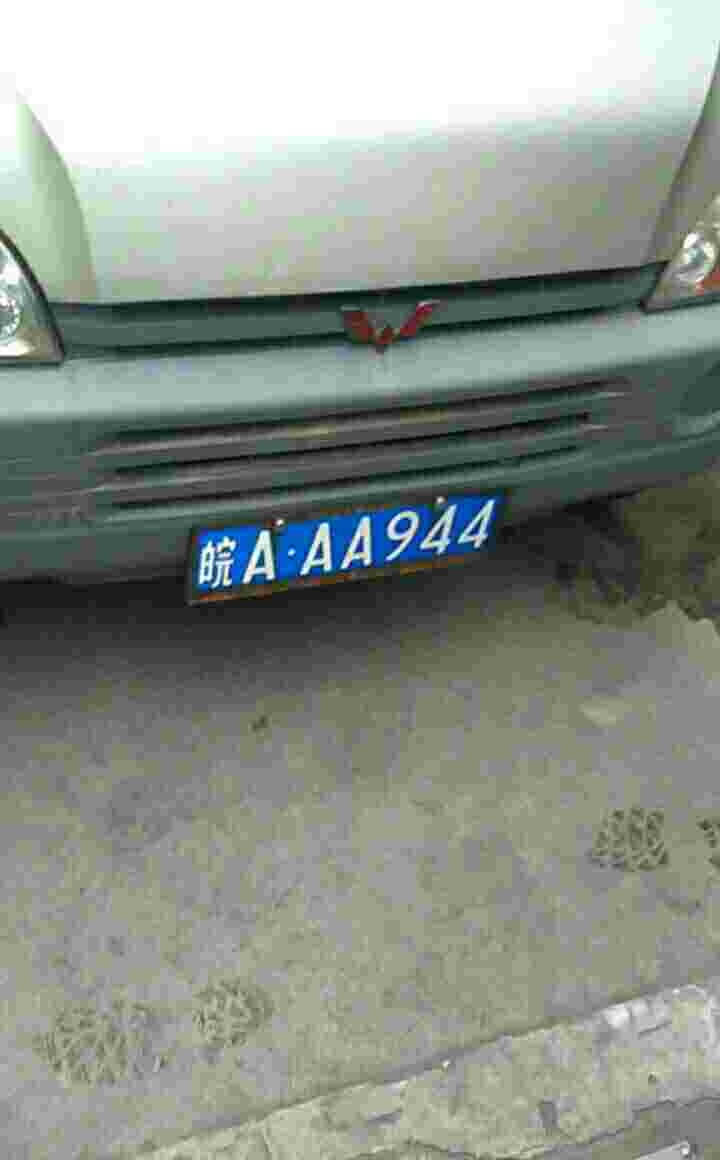license_plate: (201, 501, 509, 595)
